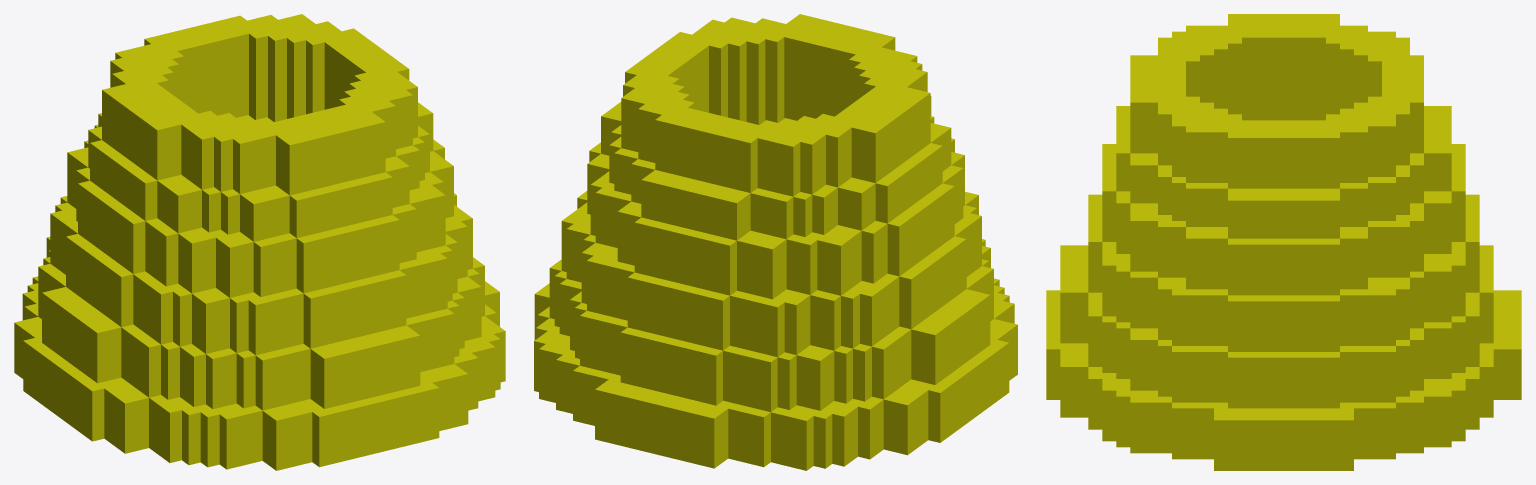
File: goodnight-moon-4-scene-lamp.obj
The picture shows the model from 3 angles, left to right: view 1: azimuth 30°, elevation 25°; view 2: azimuth 150°, elevation 25°; view 3: azimuth 270°, elevation 25°; orthographic projection.
Parts seen in each view (by area): view 1: scene-lamp; view 2: scene-lamp; view 3: scene-lamp.
Part boxes in pixels (x1=…): scene-lamp: x1=14, y1=14, x2=505, y2=470; scene-lamp: x1=534, y1=14, x2=1017, y2=470; scene-lamp: x1=1046, y1=14, x2=1521, y2=470.
Size of the model in its own units: 3.4 by 2.3 by 3.4.
Materials: 1 (1 with a texture image).
